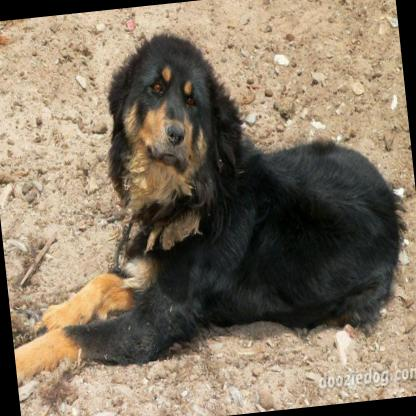Tibetan_mastiff: (0, 7, 416, 376)
